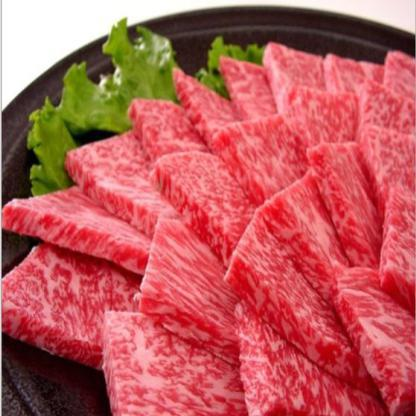beef: (32, 72, 416, 415)
